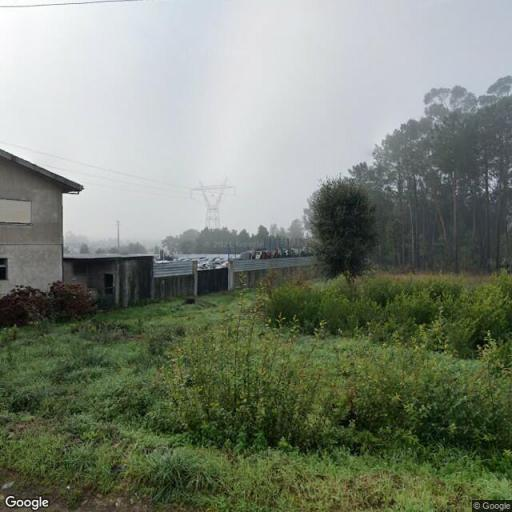wt_5: (190, 176, 236, 230)
